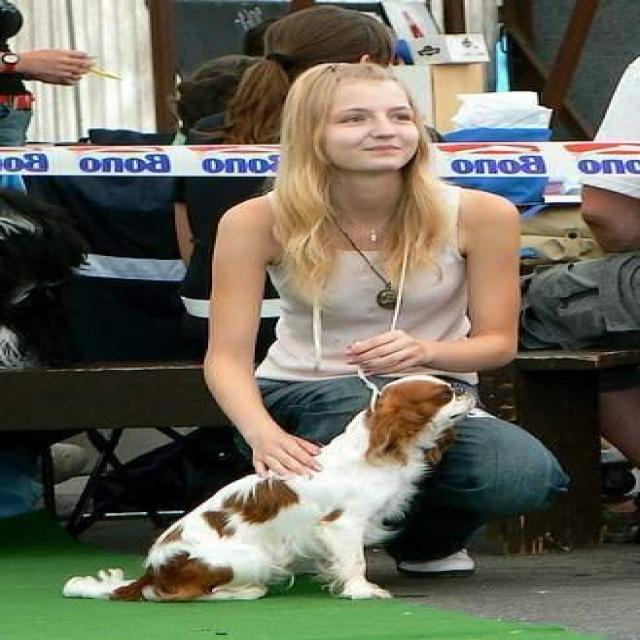blenheim_spaniel: (60, 374, 477, 598)
